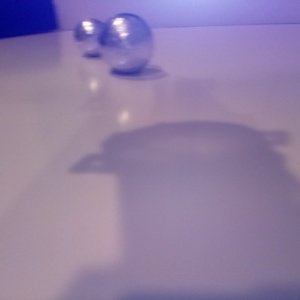alive_ball: (98, 13, 155, 73), (74, 18, 107, 56)
